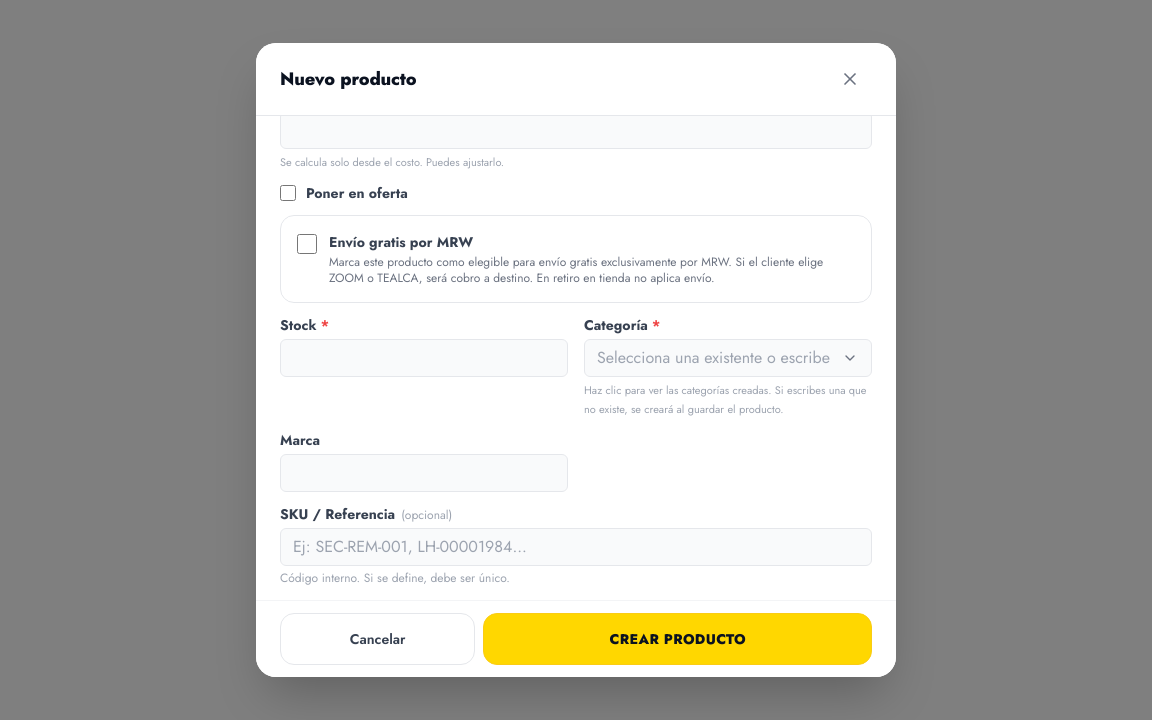
Test: AddProductModal — categoría › al elegir una categoría de la lista la asigna al campo
This screenshot has width=1152, height=720.
(page scrolled)
Focus the dropdown labelled "Categoría *": (728, 358) [584,339,872,377]
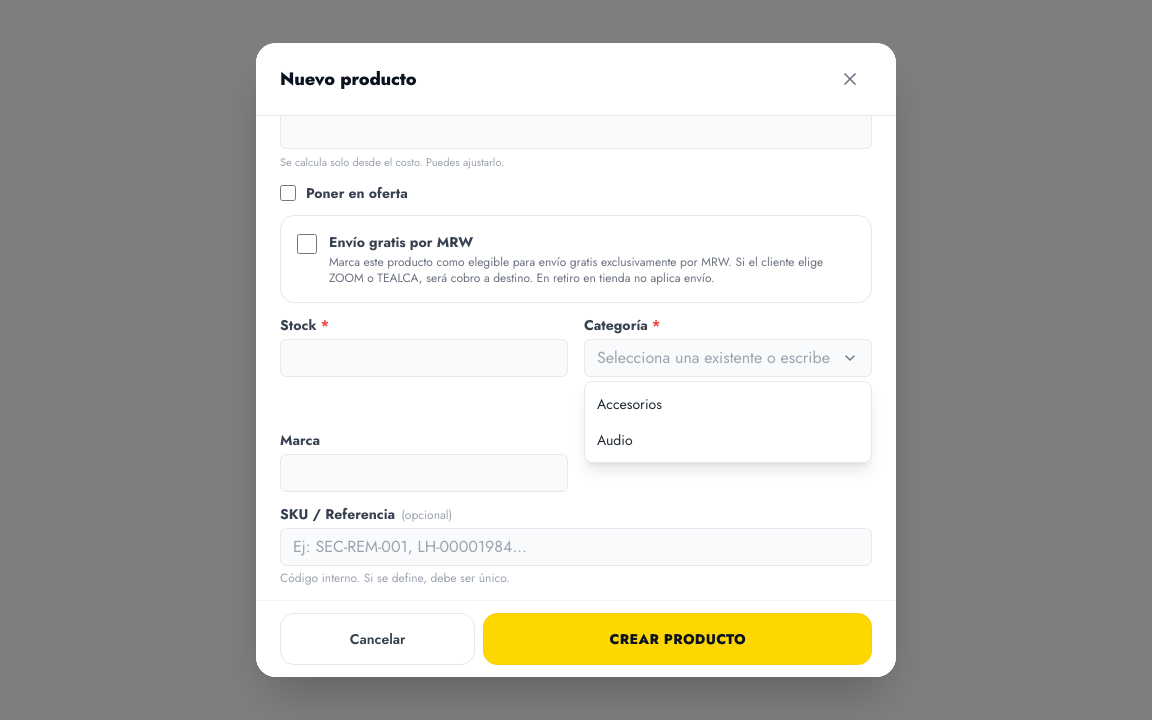
Expected: the button "Audio" is shown
Click the button "Audio": (615, 440) [585,422,871,458]
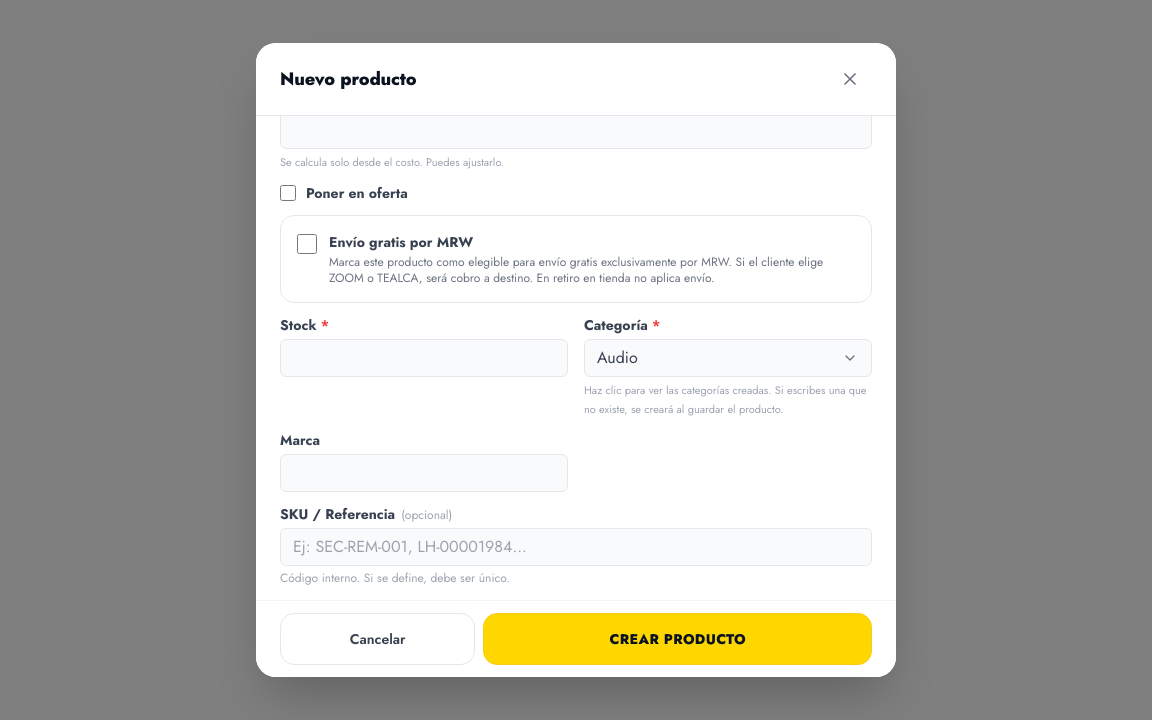
Expected: the dropdown labelled "Categoría *" holds "Audio", [584,339,872,377]
